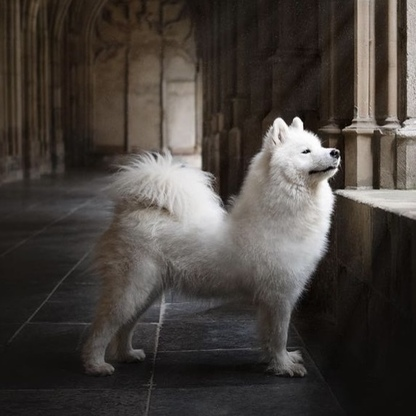samoyed: (76, 113, 347, 383)
